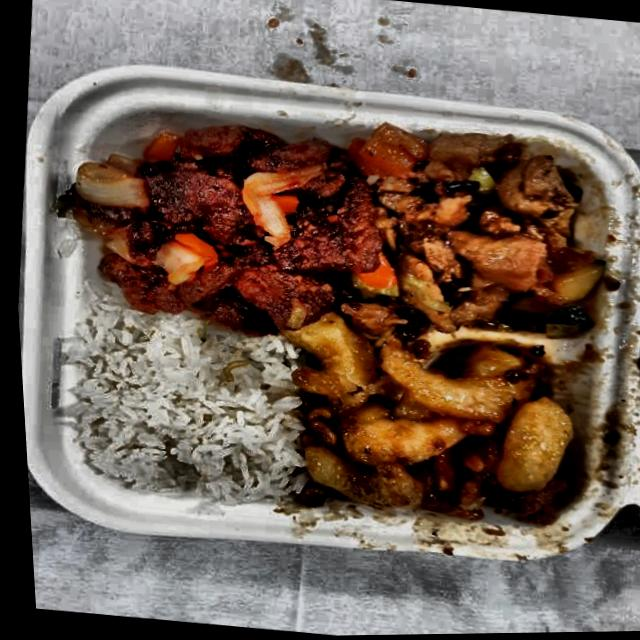Food: (46, 103, 393, 347), (268, 309, 594, 546), (331, 113, 631, 364), (53, 310, 303, 508)
